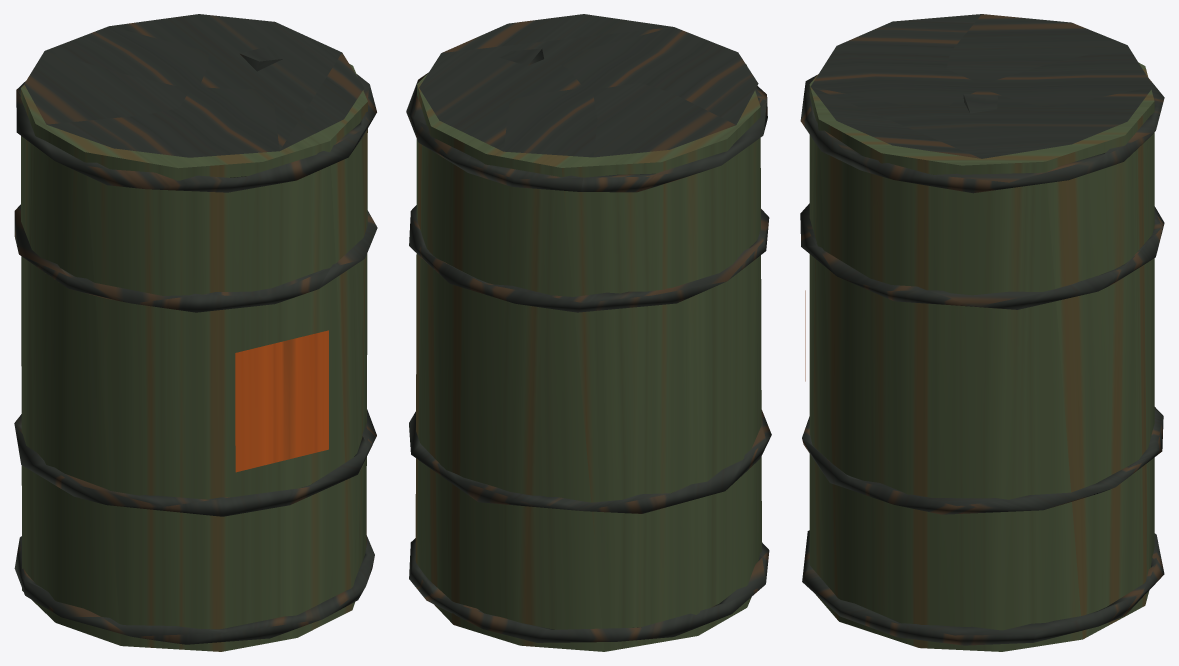
The model's file is barrel-lod.obj.
3 renders of one model, left to right at view 1: azimuth 30°, elevation 25°; view 2: azimuth 150°, elevation 25°; view 3: azimuth 270°, elevation 25°, orthographic.
Parts seen in each view (by area): view 1: barrel.001; view 2: barrel.001; view 3: barrel.001.
Boxes of the visible parts, left/top/right/bottom form: barrel.001: left=14, top=14, right=377, bottom=651; barrel.001: left=406, top=14, right=771, bottom=651; barrel.001: left=800, top=14, right=1164, bottom=651.
Size of the model in its own units: 0.6173 by 0.949 by 0.6111.
Materials: 1 (1 with a texture image).
